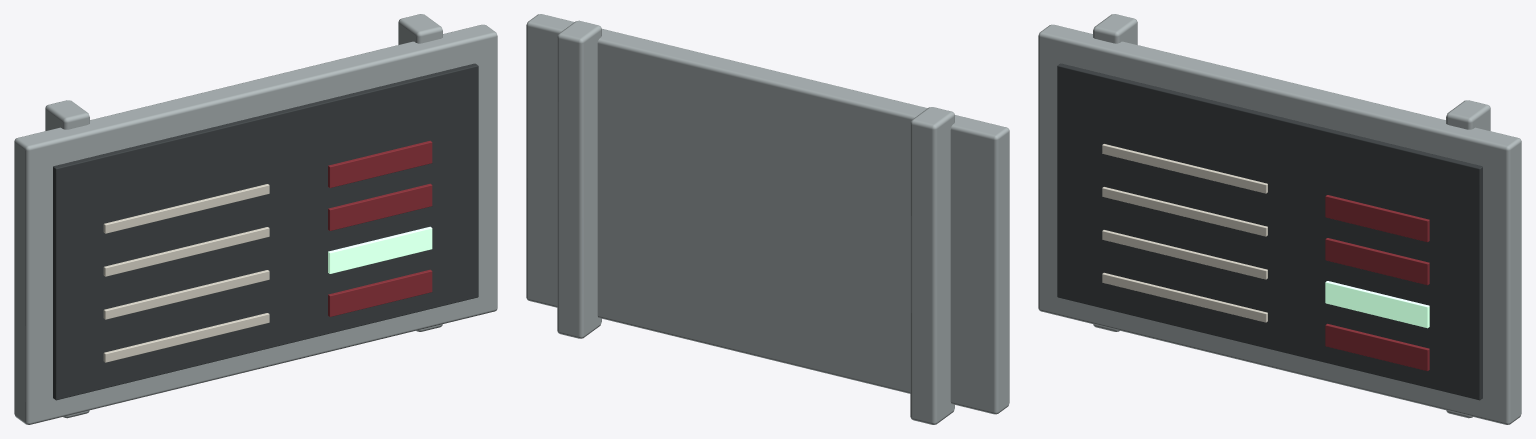
The model's file is pneumatic-tube-mail-exchange-pneumatic-tube-mail-excha-1847aa40__32303.glb.
3 renders of one model, left to right at view 1: azimuth 30°, elevation 25°; view 2: azimuth 150°, elevation 25°; view 3: azimuth 330°, elevation 25°, orthographic.
Parts seen in each view (by area): view 1: pneumatic-tube-mail-exchange-dispatch-status-board; view 2: pneumatic-tube-mail-exchange-dispatch-status-board; view 3: pneumatic-tube-mail-exchange-dispatch-status-board.
Boxes of the visible parts, <box> form: pneumatic-tube-mail-exchange-dispatch-status-board: <box>14,14,497,424</box>; pneumatic-tube-mail-exchange-dispatch-status-board: <box>526,14,1009,424</box>; pneumatic-tube-mail-exchange-dispatch-status-board: <box>1038,14,1521,424</box>.
Size of the model in its own units: 1.15 by 0.7 by 0.1555.
